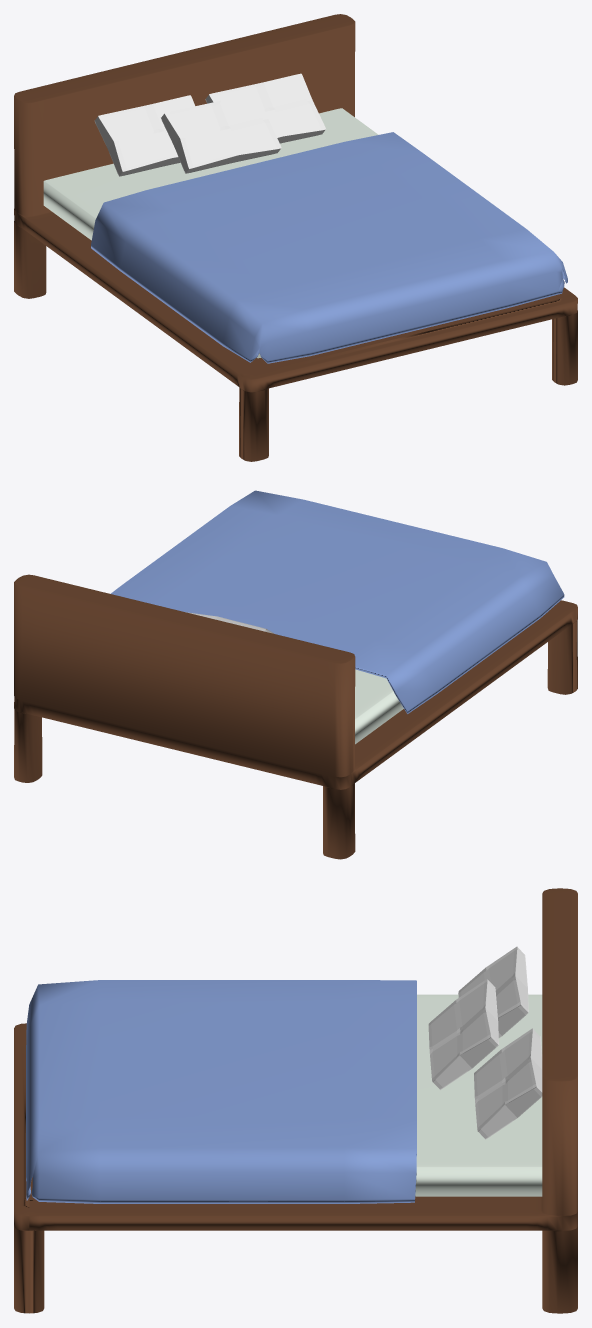
The model's file is finalbed.fbx.
3 views of the same model, one above another, from view 1: azimuth 30°, elevation 25°; view 2: azimuth 150°, elevation 25°; view 3: azimuth 270°, elevation 25° (orthographic). The views are drawn at different scales.
Visible parts, largest first — view 1: Cube.004, Cube, Cube.003, Cube.001, Cube.002; view 2: Cube, Cube.004; view 3: Cube.004, Cube, Cube.003, Cube.002, Cube.001.
Boxes of the visible parts, x1=… form: Cube.004: x1=91, y1=132, x2=567, y2=363; Cube: x1=14, y1=14, x2=577, y2=461; Cube.003: x1=161, y1=92, x2=281, y2=173; Cube.001: x1=94, y1=95, x2=194, y2=176; Cube.002: x1=205, y1=73, x2=325, y2=143; Cube: x1=14, y1=574, x2=577, y2=859; Cube.004: x1=110, y1=490, x2=564, y2=713; Cube.004: x1=26, y1=980, x2=416, y2=1203; Cube: x1=14, y1=888, x2=577, y2=1313; Cube.003: x1=428, y1=979, x2=498, y2=1089; Cube.002: x1=474, y1=1028, x2=542, y2=1139; Cube.001: x1=458, y1=946, x2=528, y2=1037.
Bounding box in the file's own units: 336 × 189 × 414.
